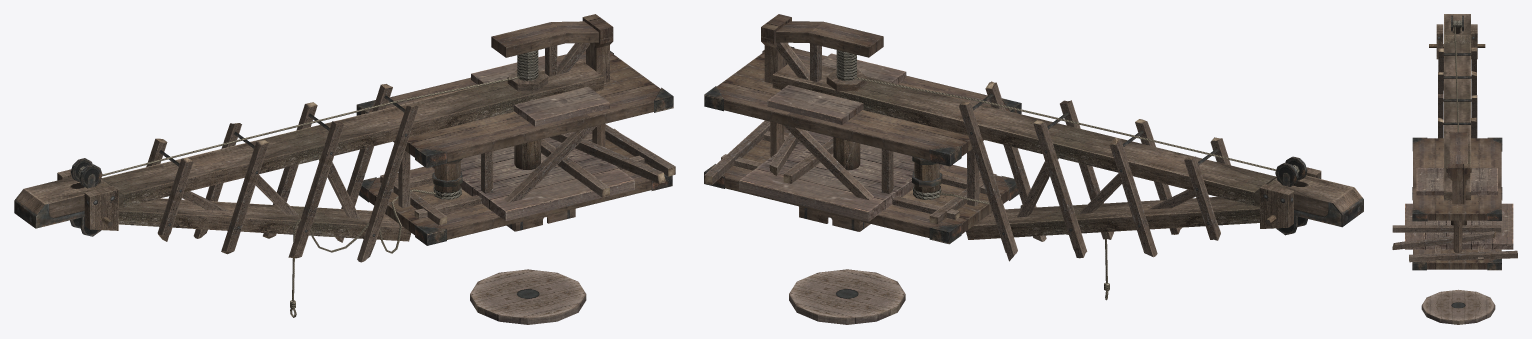
Rendered from CraneB.fbx.
3 renders of one model, left to right at view 1: azimuth 30°, elevation 25°; view 2: azimuth 150°, elevation 25°; view 3: azimuth 270°, elevation 25°, orthographic. The views are drawn at different scales.
Parts seen in each view (by area): view 1: LV_Common_Object_Crane01B_SM_NWCJOE; view 2: LV_Common_Object_Crane01B_SM_NWCJOE; view 3: LV_Common_Object_Crane01B_SM_NWCJOE.
Part boxes in pixels (bbox=[...]): LV_Common_Object_Crane01B_SM_NWCJOE: bbox=[14, 14, 675, 324]; LV_Common_Object_Crane01B_SM_NWCJOE: bbox=[704, 14, 1363, 324]; LV_Common_Object_Crane01B_SM_NWCJOE: bbox=[1392, 14, 1517, 324].
Bounding box in the file's own units: 394 × 163 × 110.
